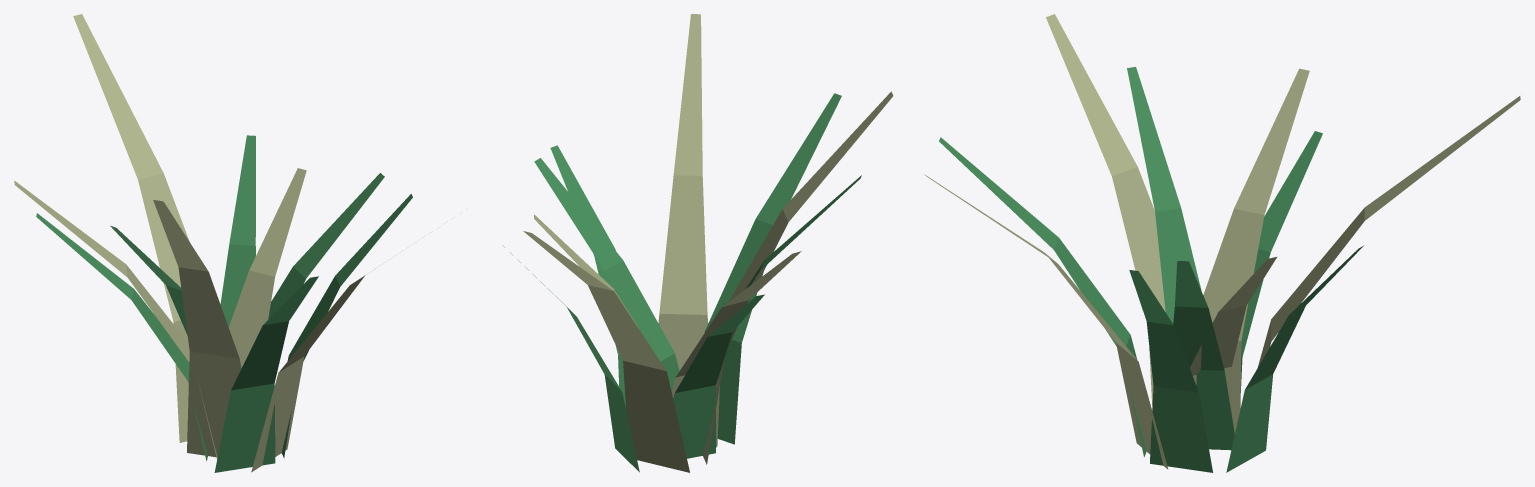
The model's file is decor_grass.glb.
3 views of the same model, side by side, from view 1: azimuth 30°, elevation 25°; view 2: azimuth 150°, elevation 25°; view 3: azimuth 270°, elevation 25° (orthographic). The views are drawn at different scales.
Parts seen in each view (by area): view 1: decor_grass; view 2: decor_grass; view 3: decor_grass.
Part boxes in pixels (x1,y1,x2,y2): decor_grass: [14, 14, 412, 472]; decor_grass: [502, 14, 893, 472]; decor_grass: [924, 14, 1520, 472].
Bounding box in the file's own units: 0.2793 × 0.2773 × 0.4197.
